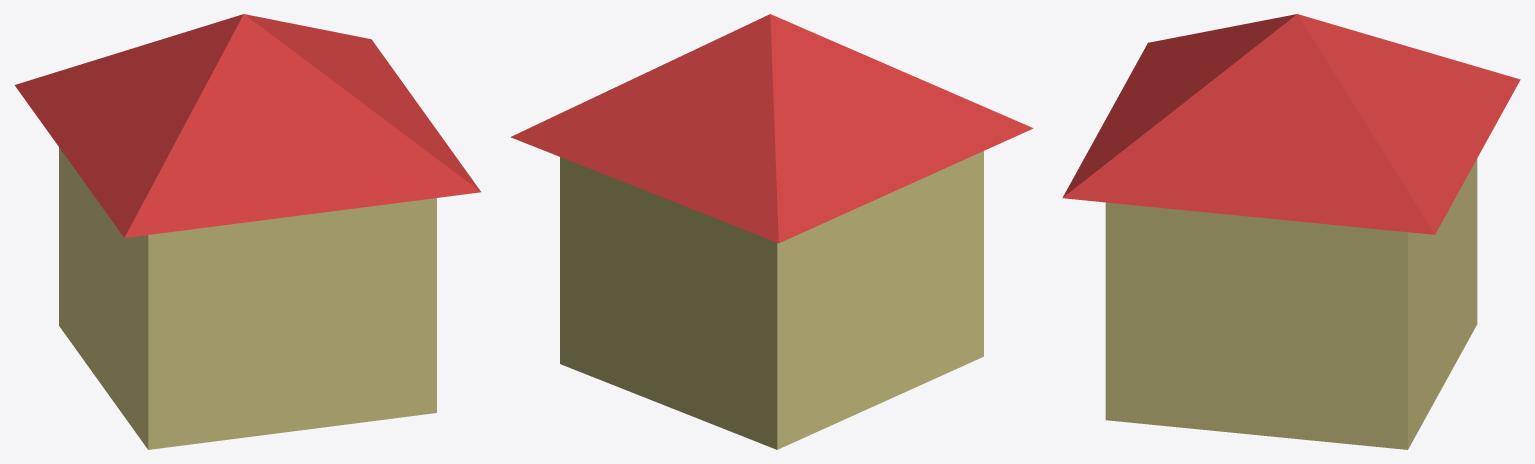
3 views of the same model, side by side, from view 1: azimuth 30°, elevation 25°; view 2: azimuth 150°, elevation 25°; view 3: azimuth 270°, elevation 25° (orthographic). The views are drawn at different scales.
Visible parts, largest first — view 1: group_5, group_3, group_4; view 2: group_5, group_3, group_4; view 3: group_5, group_3, group_4.
Boxes of the visible parts, x1,y1,x2,y2 form: group_5: (59,147,436,449); group_3: (59,14,480,237); group_4: (14,34,480,237); group_5: (560,151,983,449); group_3: (561,14,981,198); group_4: (510,106,1033,243); group_5: (1105,159,1477,449); group_3: (1062,14,1476,234); group_4: (1063,37,1520,234).
Bounding box in the file's own units: 12.55 × 12.66 × 10.9.
